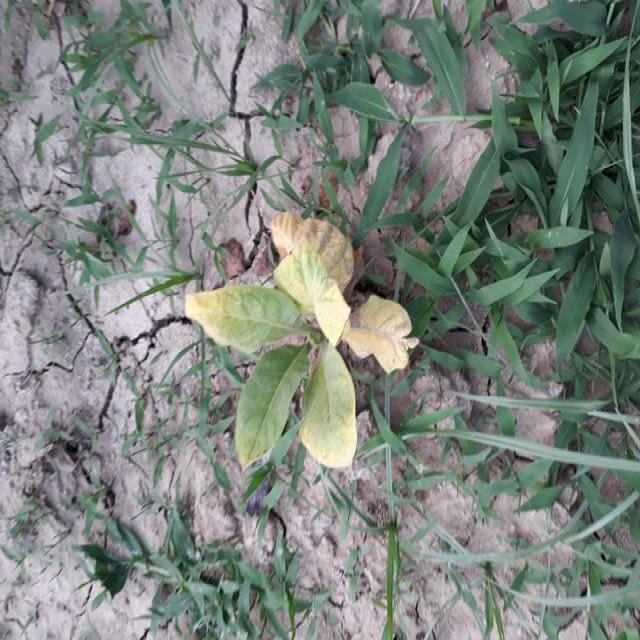crop: (185, 207, 407, 474)
